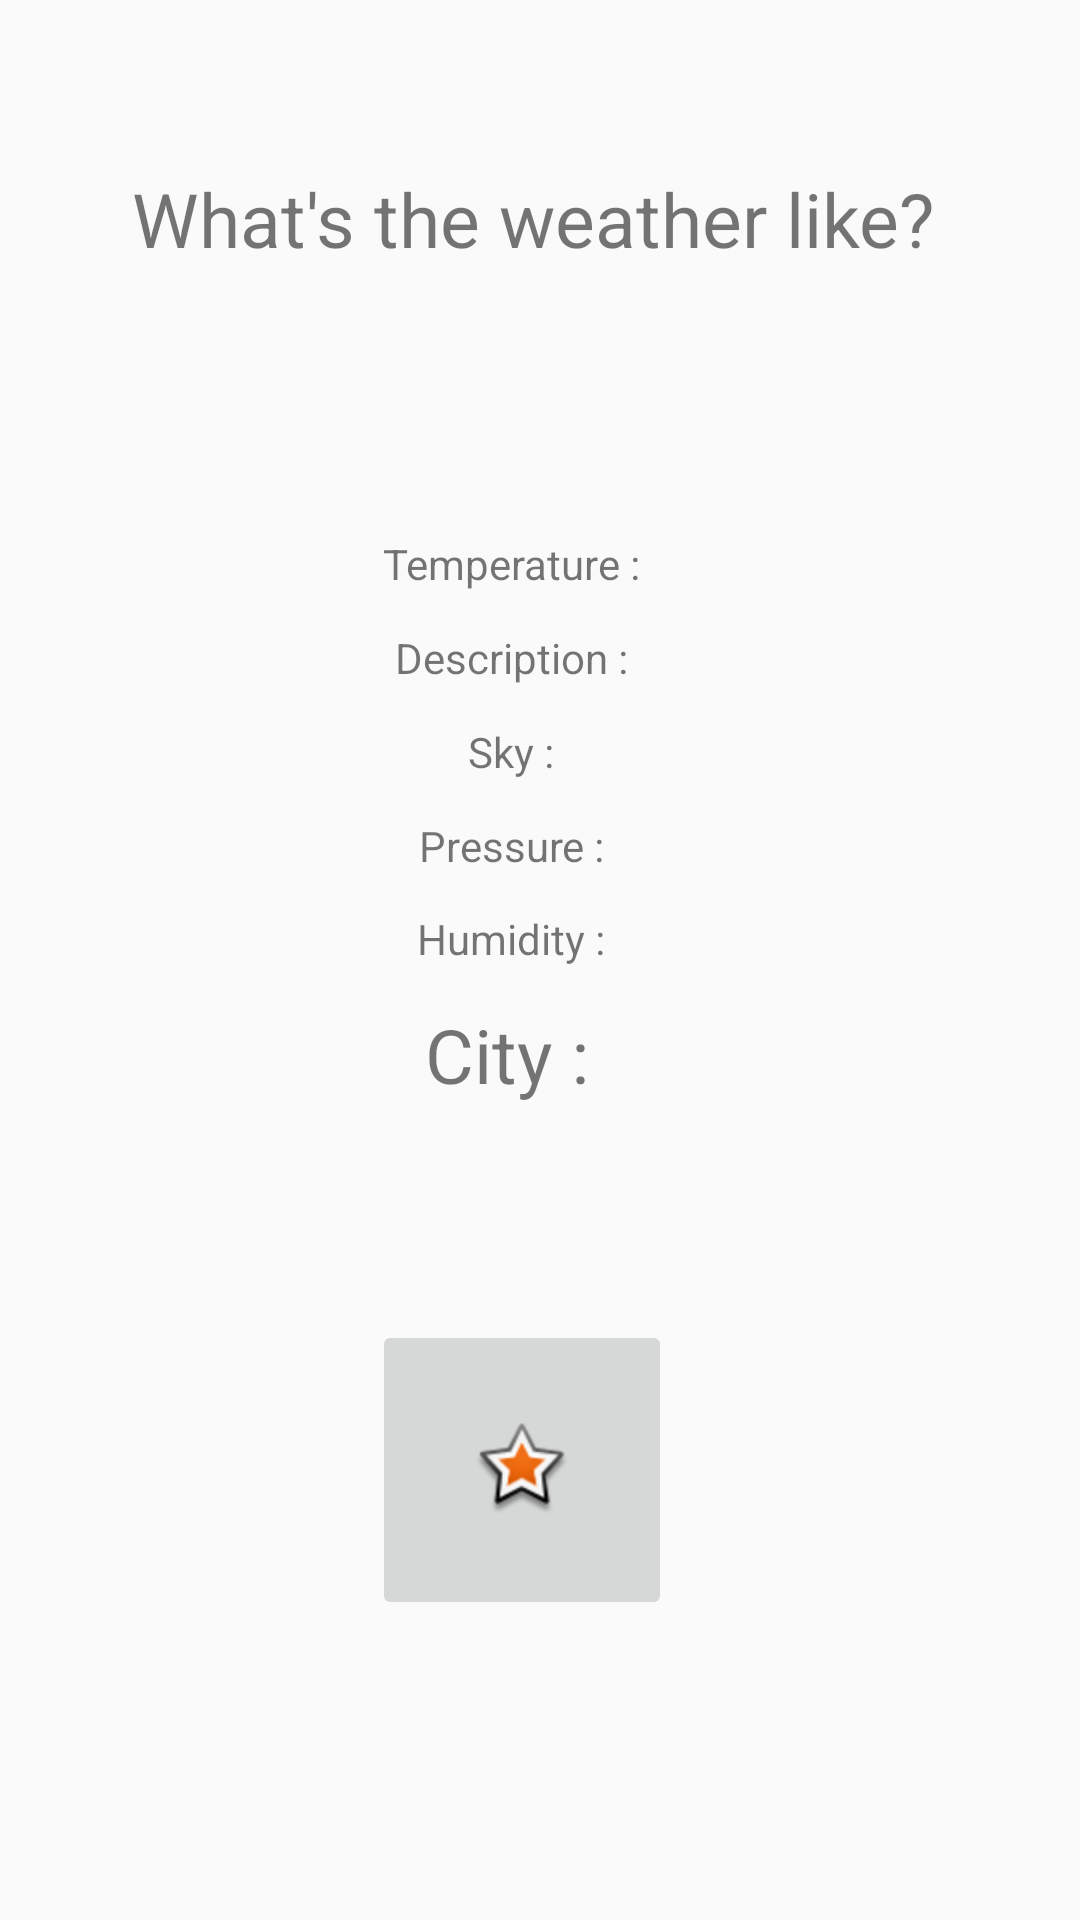

Icon bounding boxes for this 1080×1920 phone screenshot, format (x1,y1,x2,y2):
star on: (384,1338,660,1602)
